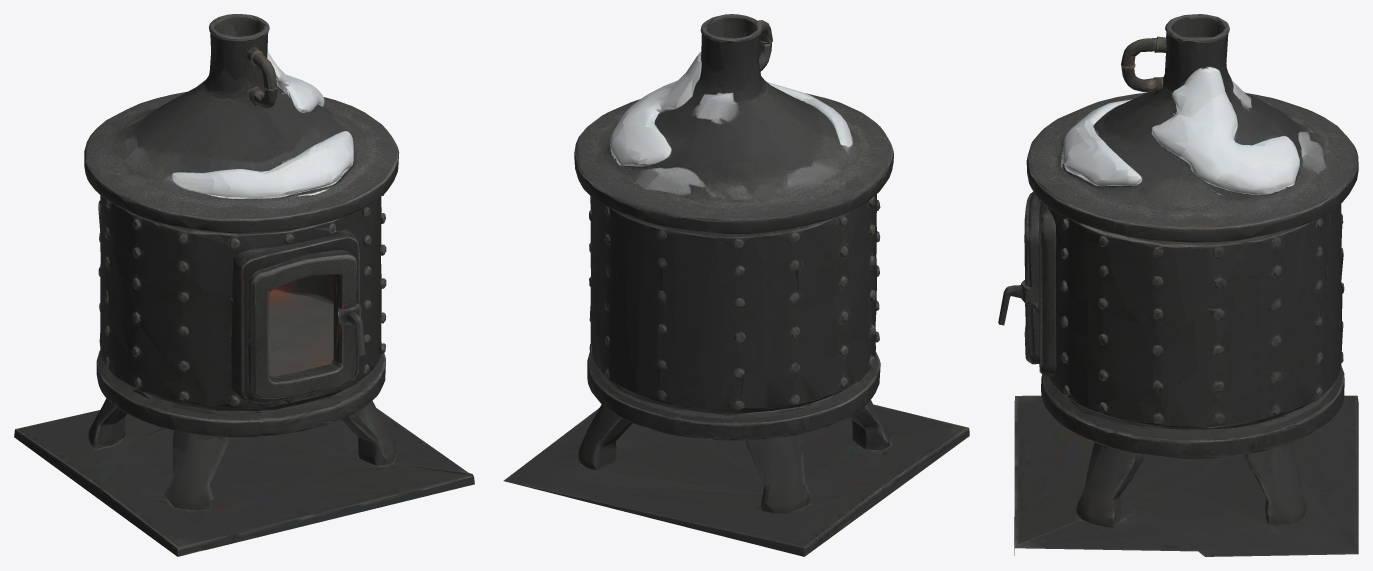
The model's file is boiler.glb.
3 renders of one model, left to right at view 1: azimuth 30°, elevation 25°; view 2: azimuth 150°, elevation 25°; view 3: azimuth 270°, elevation 25°, orthographic. The views are drawn at different scales.
Size of the model in its own units: 1.37 by 1.9 by 1.37.
1 material, 1 textured.
